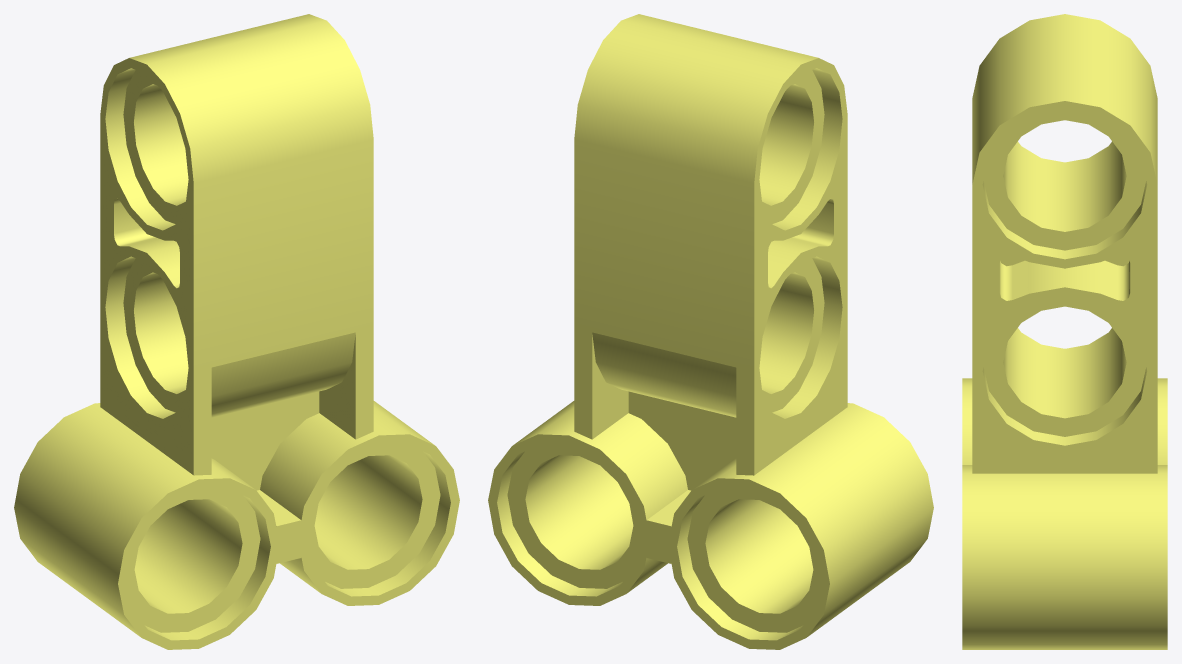
3 renders of one model, left to right at view 1: azimuth 30°, elevation 25°; view 2: azimuth 150°, elevation 25°; view 3: azimuth 270°, elevation 25°, orthographic.
Visible parts, largest first — view 1: 32557.dat; view 2: 32557.dat; view 3: 32557.dat.
Part boxes in pixels (bbox=[...]): 32557.dat: bbox=[14, 14, 459, 649]; 32557.dat: bbox=[488, 14, 933, 649]; 32557.dat: bbox=[962, 14, 1167, 649].
Bounding box in the file's own units: 0.0152 × 0.0232 × 0.008.
